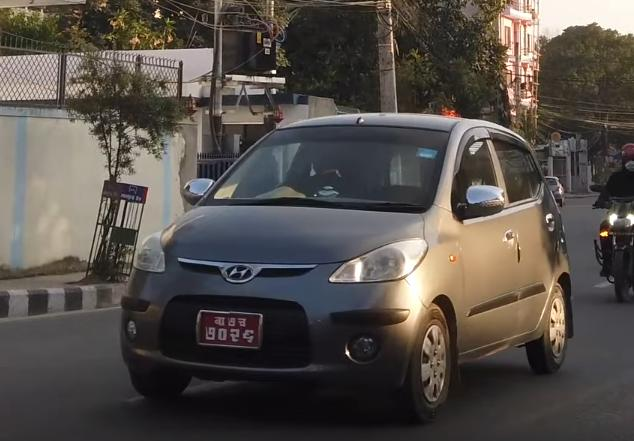bike: (591, 177, 634, 296)
car: (118, 107, 573, 428)
